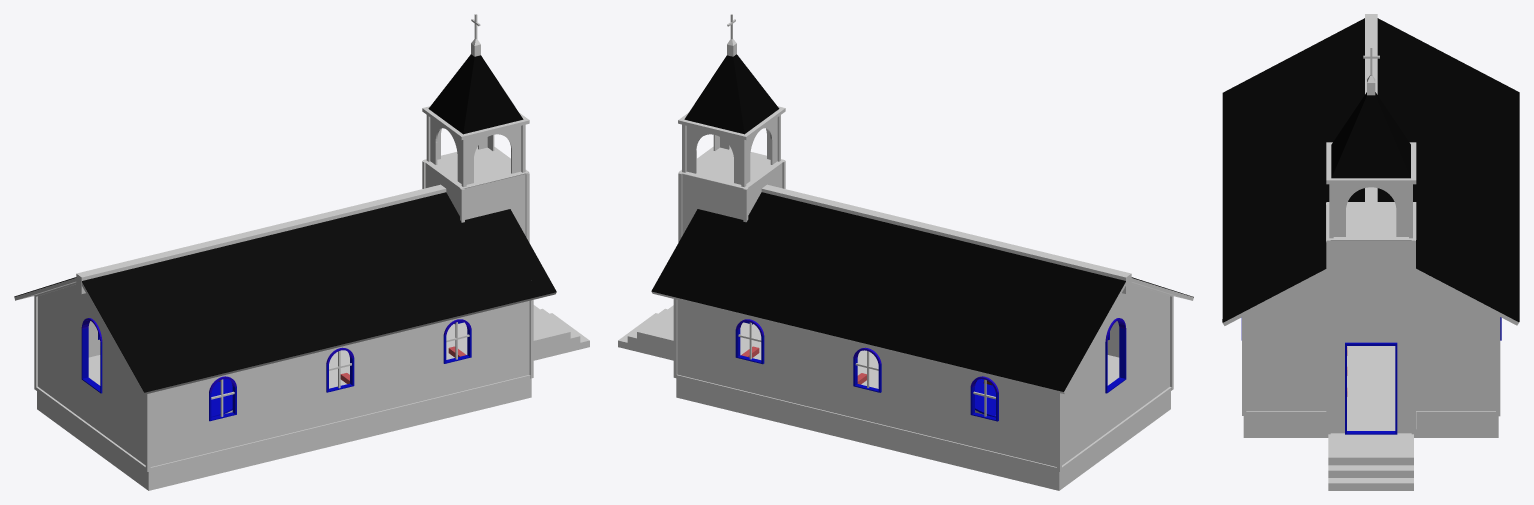
The model's file is church_Greyscale_demo.fbx.
The picture shows the model from 3 angles, left to right: view 1: azimuth 30°, elevation 25°; view 2: azimuth 150°, elevation 25°; view 3: azimuth 270°, elevation 25°; orthographic projection. The views are drawn at different scales.
Parts seen in each view (by area): view 1: right tiles, right wall.002, Cube.004, Cube.003, tower roof.001, roof support beam, tower right wall, Cube, right bottom outerrail, Cube.005, right roof, Cube.020 (+7 smaller); view 2: left shingles, left wall, Cube.004, Cube.003, tower roof.001, roof support beam, Tower left wall, Cube, left bottom outerrail, Cube.005, left roof, Cube.001 (+6 smaller); view 3: right tiles, left shingles, tower back wall, back right wall, back left wall, tower roof.001, Cube.004, floor, Cube.005, Cube, Cube.011, Cube.023 (+13 smaller).
Boxes of the visible parts, <box> form: right tiles: <box>82,192,556,392</box>; right wall.002: <box>150,301,529,466</box>; Cube.004: <box>37,378,531,490</box>; Cube.003: <box>38,294,145,464</box>; tower roof.001: <box>428,54,523,134</box>; roof support beam: <box>76,184,446,293</box>; tower right wall: <box>465,174,525,235</box>; Cube: <box>422,147,529,188</box>; right bottom outerrail: <box>150,375,530,470</box>; Cube.005: <box>533,305,570,360</box>; right roof: <box>82,282,556,394</box>; Cube.020: <box>466,126,520,184</box>; left shingles: <box>651,192,1125,391</box>; left wall: <box>677,300,1056,466</box>; Cube.004: <box>676,378,1170,490</box>; Cube.003: <box>1062,294,1169,465</box>; tower roof.001: <box>684,54,779,134</box>; roof support beam: <box>761,184,1131,293</box>; Tower left wall: <box>682,174,743,235</box>; Cube: <box>678,146,785,188</box>; left bottom outerrail: <box>676,374,1056,470</box>; Cube.005: <box>637,305,673,360</box>; left roof: <box>652,282,1125,394</box>; Cube.001: <box>686,126,741,184</box>; right tiles: <box>1222,18,1364,322</box>; left shingles: <box>1377,18,1519,321</box>; tower back wall: <box>1330,240,1411,433</box>; back right wall: <box>1246,273,1326,411</box>; back left wall: <box>1416,273,1495,411</box>; tower roof.001: <box>1331,92,1410,178</box>; Cube.004: <box>1243,416,1498,437</box>; floor: <box>1347,346,1395,414</box>; Cube.005: <box>1328,433,1413,465</box>; Cube: <box>1326,202,1416,240</box>; Cube.011: <box>1333,184,1408,236</box>; Cube.023: <box>1328,478,1413,490</box>.
Bounding box in the file's own units: 4727 × 3141 × 2166.
